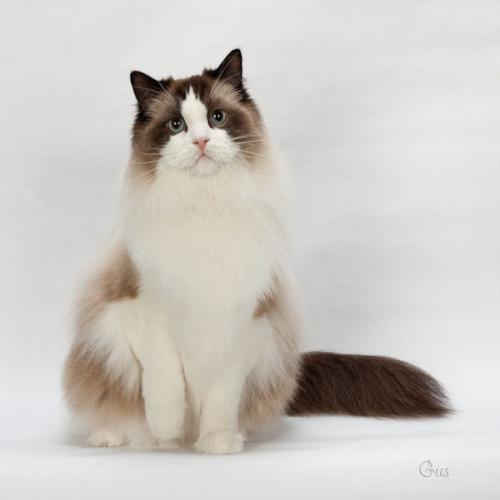ragdoll: (124, 44, 272, 192)
